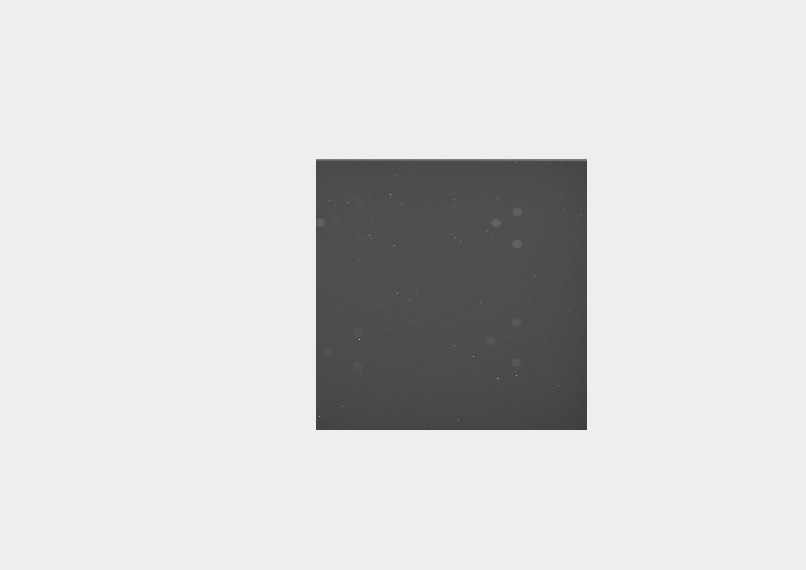cluster: (316, 198, 368, 245), (484, 317, 523, 369), (323, 327, 364, 372), (490, 207, 523, 250)
